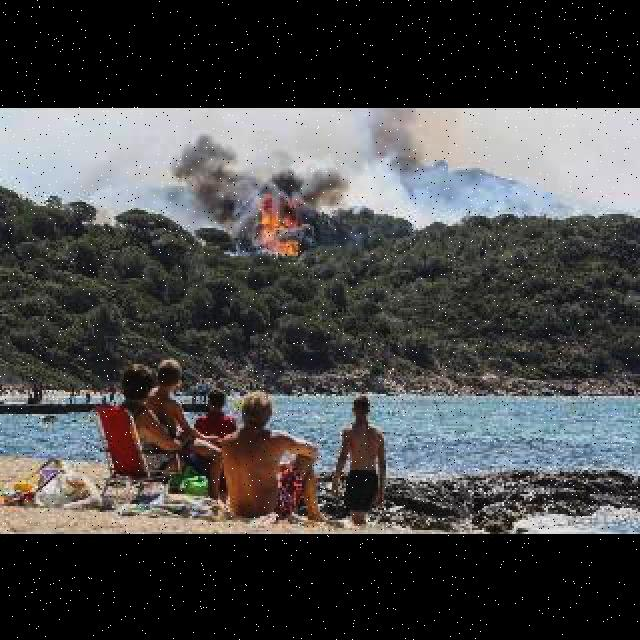fire: (265, 210, 301, 256)
smoke: (162, 112, 614, 214)
